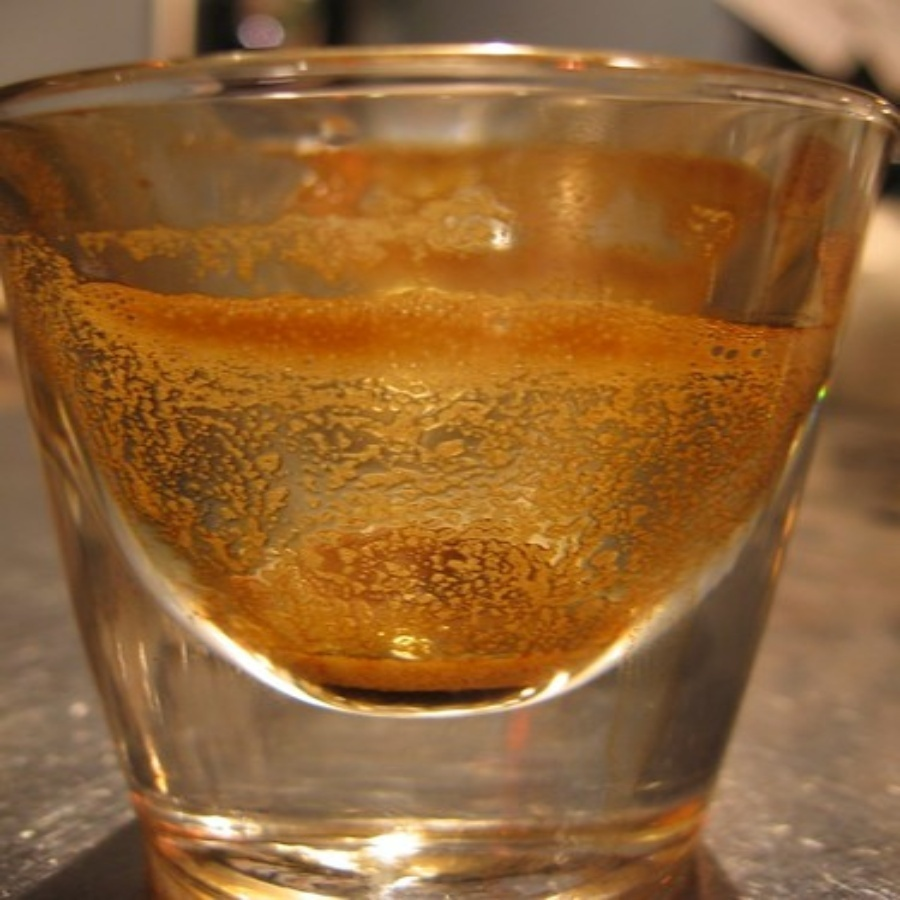whiskey: (19, 77, 886, 831)
